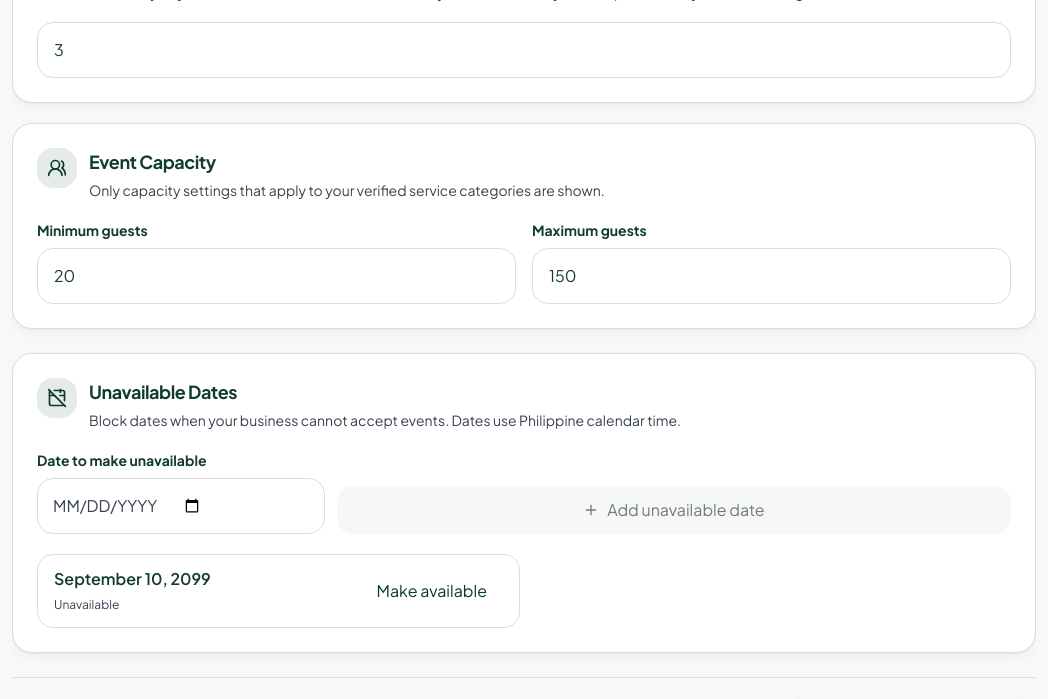
Test: provider availability workspace › adds an unavailable date through the canonical callable
The image size is (1048, 699).
(page scrolled)
Type "2099-10-20" into the date field labelled "Date to make unavailable" at (181, 506), box [37, 478, 325, 534]
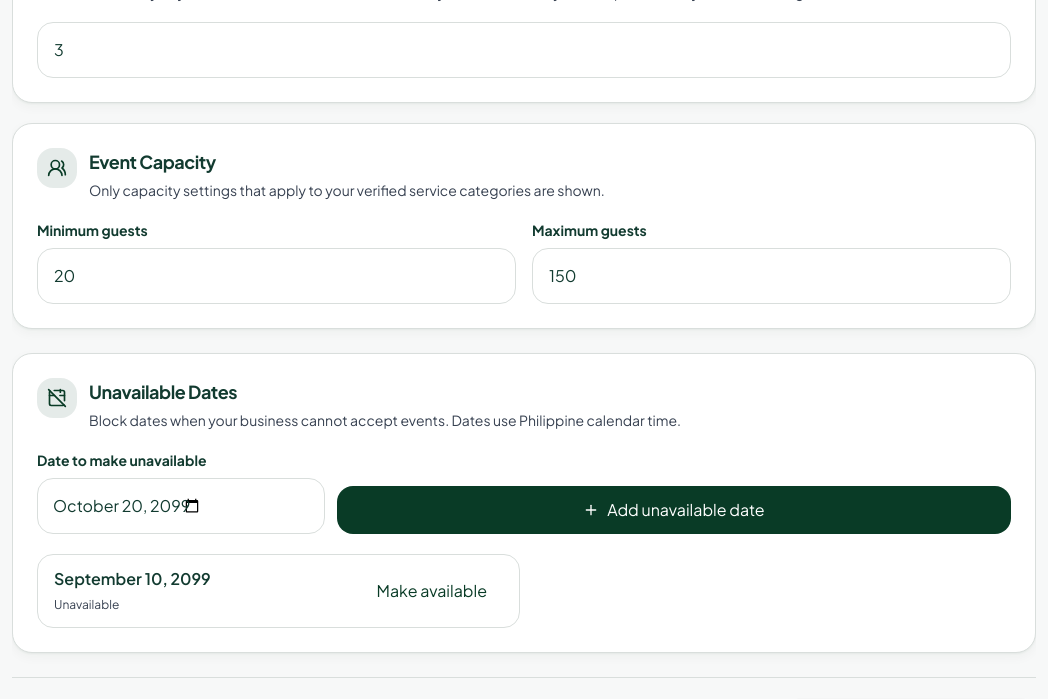
Click the button "Add unavailable date" at (674, 510), box [337, 486, 1011, 534]
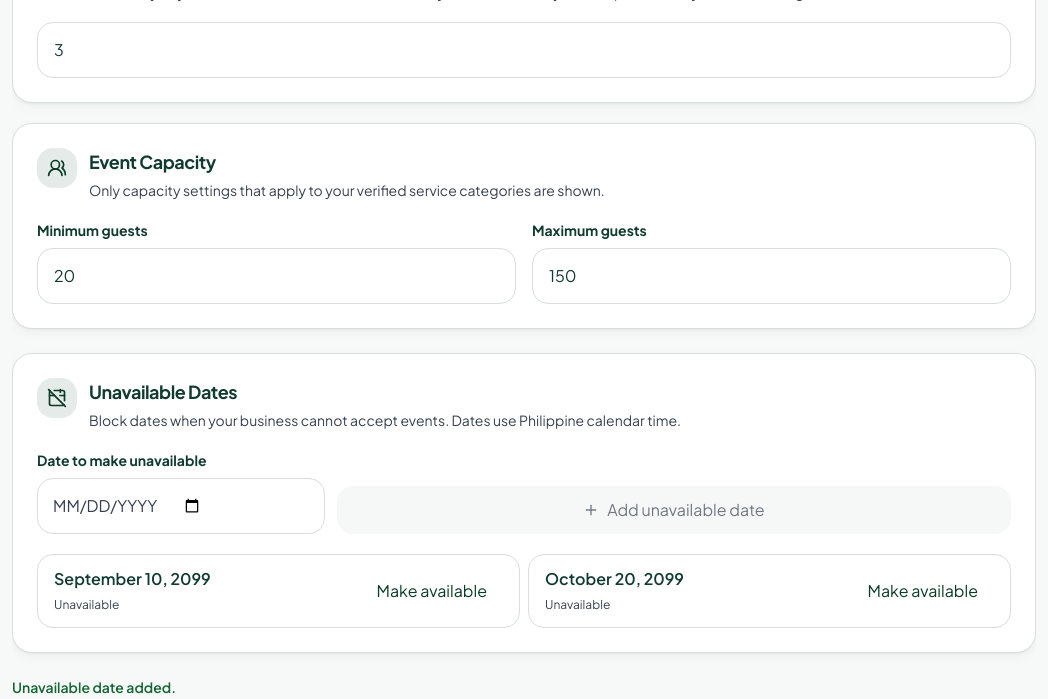
Result: the text "October 20, 2099" is shown at [545, 567, 684, 591]
